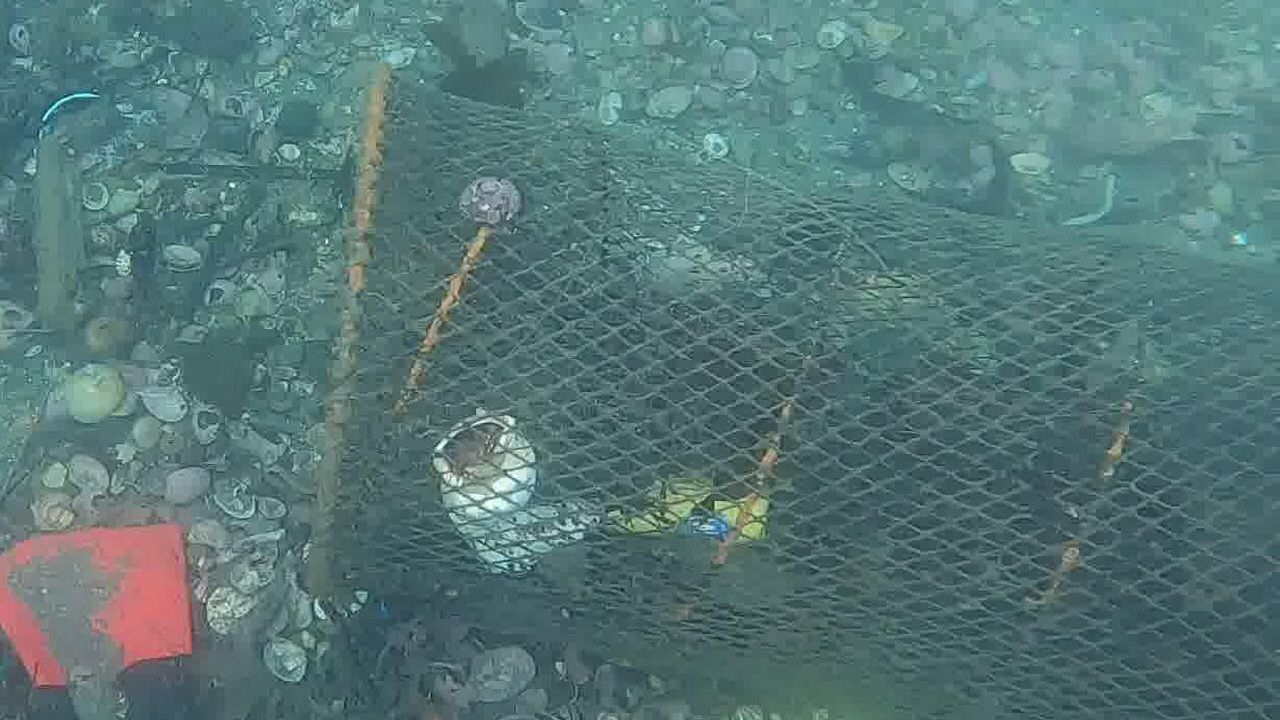spring fish trap: (308, 60, 1280, 720)
